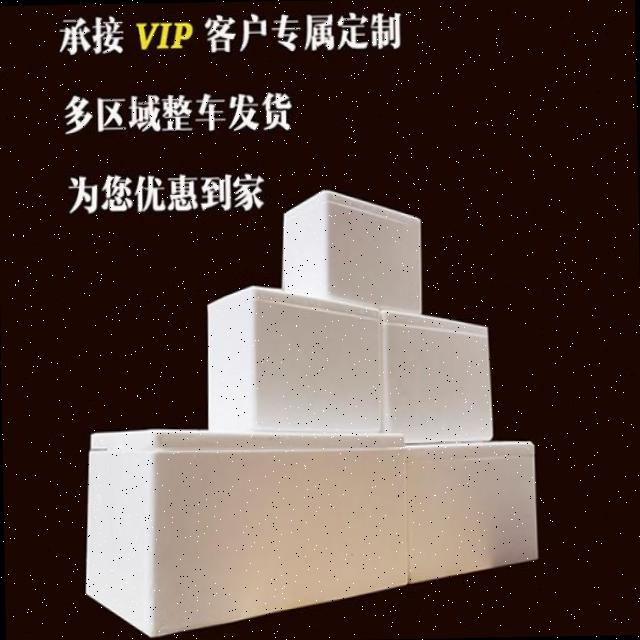styrofoam: (76, 182, 540, 638)
